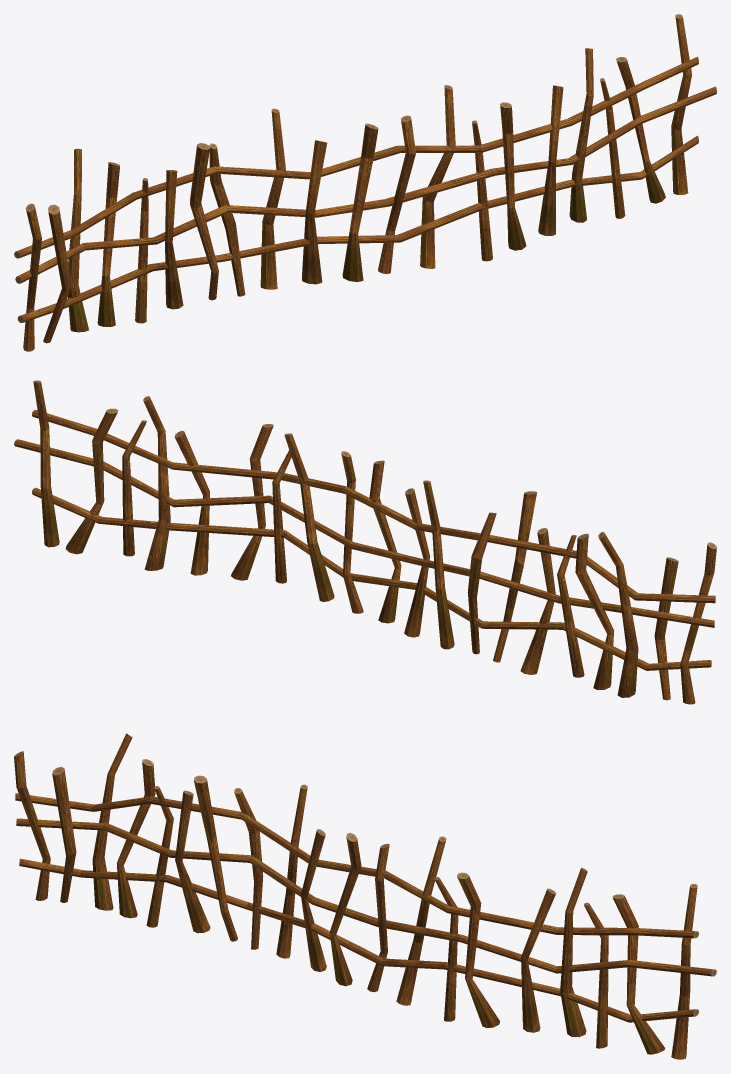
File: WoodenFenceLong.fbx
3 views of the same model, one above another, from view 1: azimuth 30°, elevation 25°; view 2: azimuth 150°, elevation 25°; view 3: azimuth 330°, elevation 25° (orthographic).
Parts seen in each view (by area): view 1: WoodenFenceLong; view 2: WoodenFenceLong; view 3: WoodenFenceLong.
Boxes of the visible parts, box(x1,y1,x2,y2) form: WoodenFenceLong: box(14, 14, 716, 351); WoodenFenceLong: box(14, 380, 716, 704); WoodenFenceLong: box(14, 733, 716, 1059).
Size of the model in its own units: 1808 by 422 by 222.
